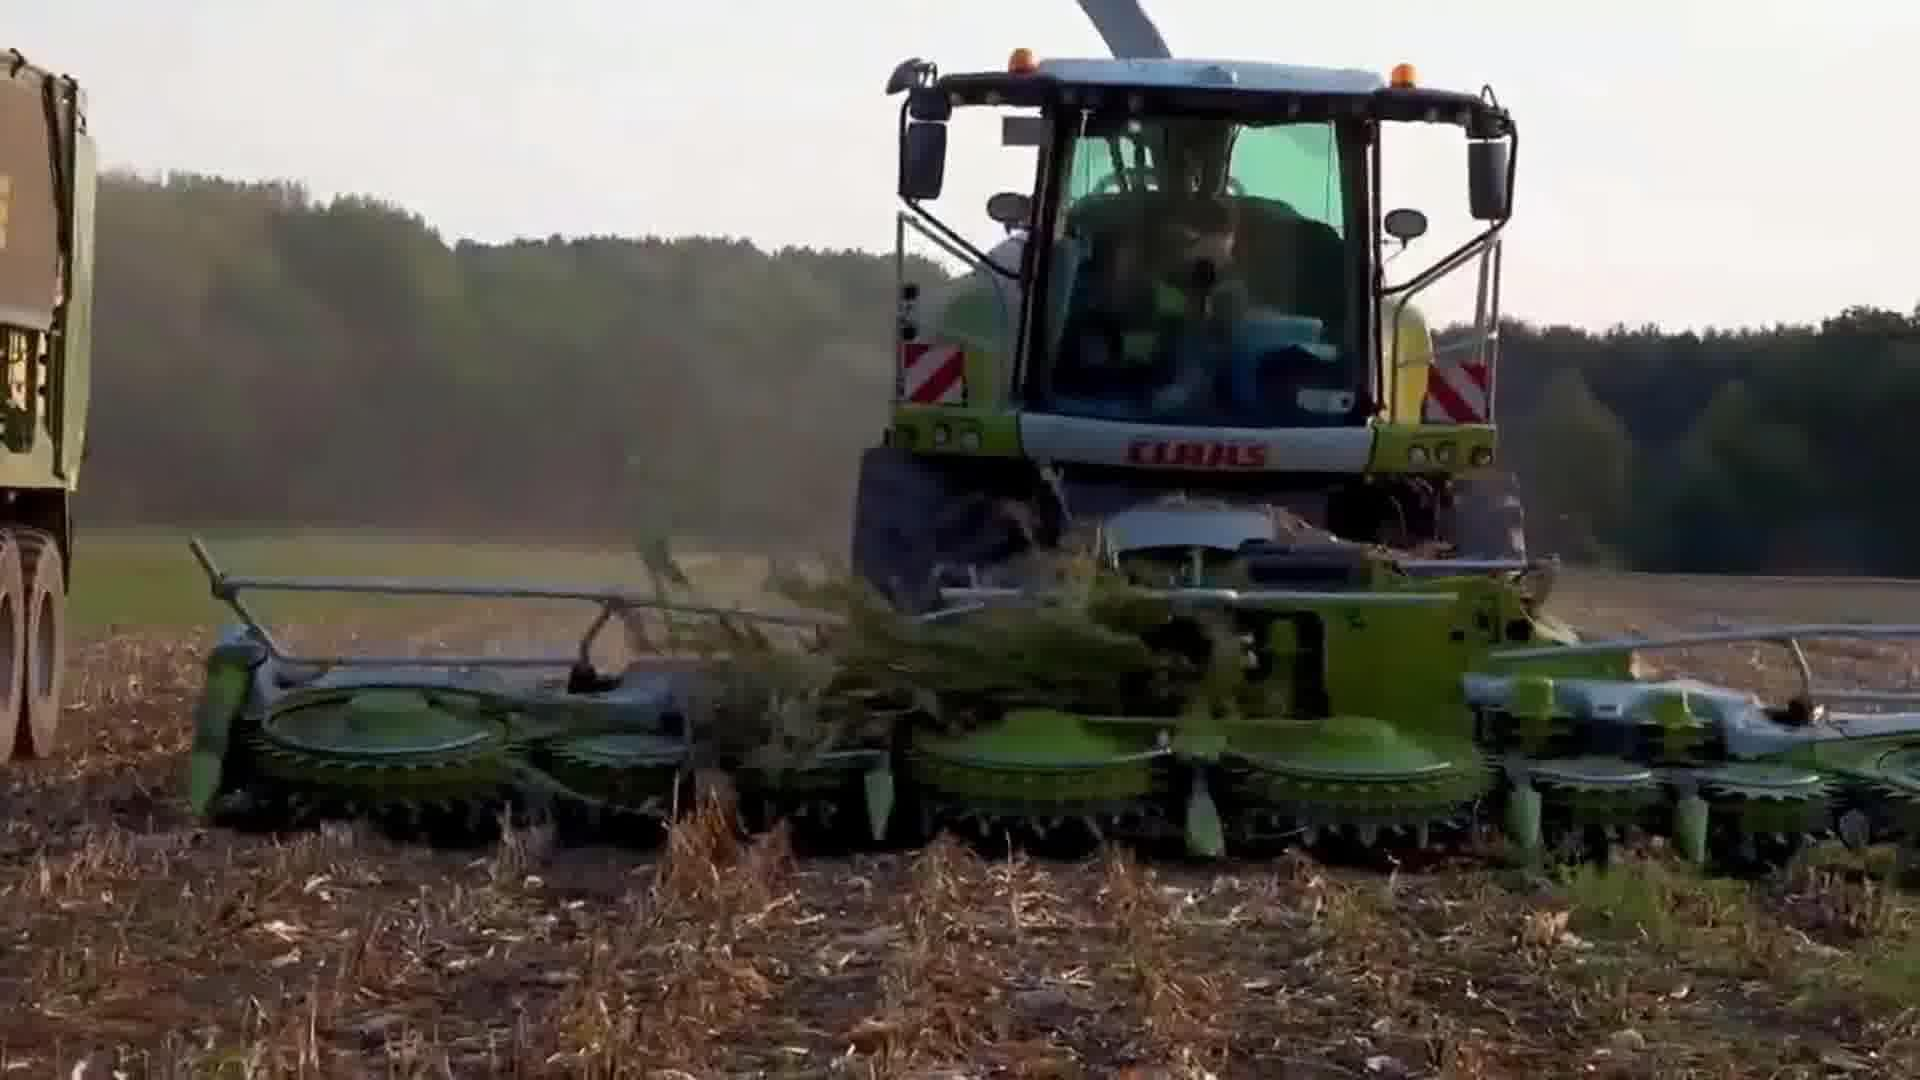combine harvester: (157, 0, 1920, 932)
trailer: (0, 37, 113, 785)
